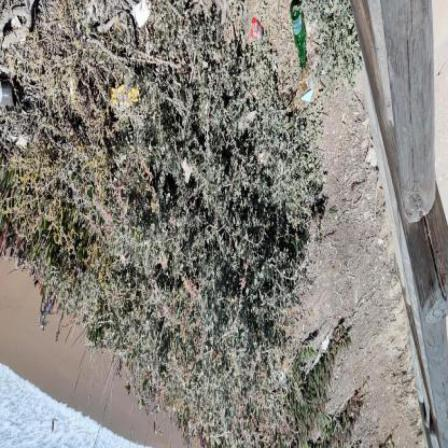Bottle: (291, 1, 307, 70), (1, 81, 17, 108)
Cigarette: (343, 114, 347, 123)
Plastic bag - wrapper: (111, 85, 142, 114), (239, 107, 258, 131)
Unlabeled litter: (130, 2, 153, 29), (8, 135, 28, 150), (252, 18, 264, 41), (183, 159, 192, 184), (368, 147, 379, 167), (301, 90, 314, 102), (307, 74, 316, 91), (71, 77, 76, 106), (322, 334, 330, 352)
